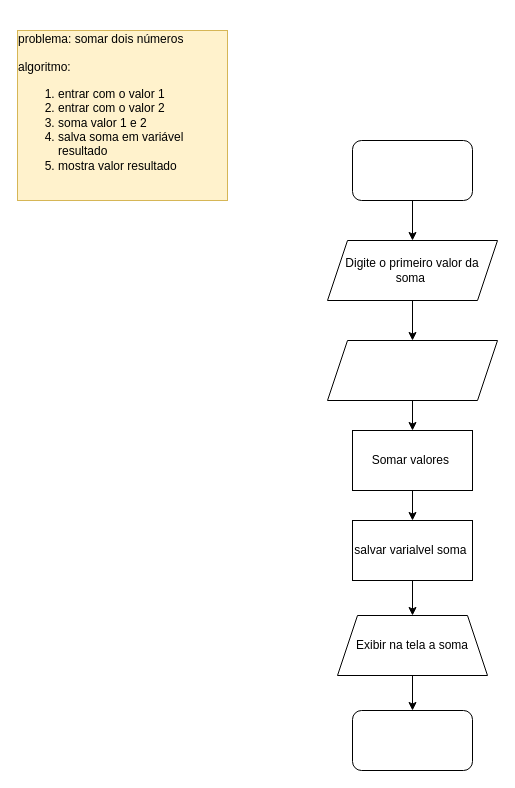
The diagram is 515 pixels wide and 788 high, and some of its shapes have lost their labels. Here are the shapes that lost their labels. From the top down, the centre of each, then its label:
At point 412,170: "Inicio".
At point 412,370: "Digite o segundo valor da soma".
At point 412,740: "FIm".
